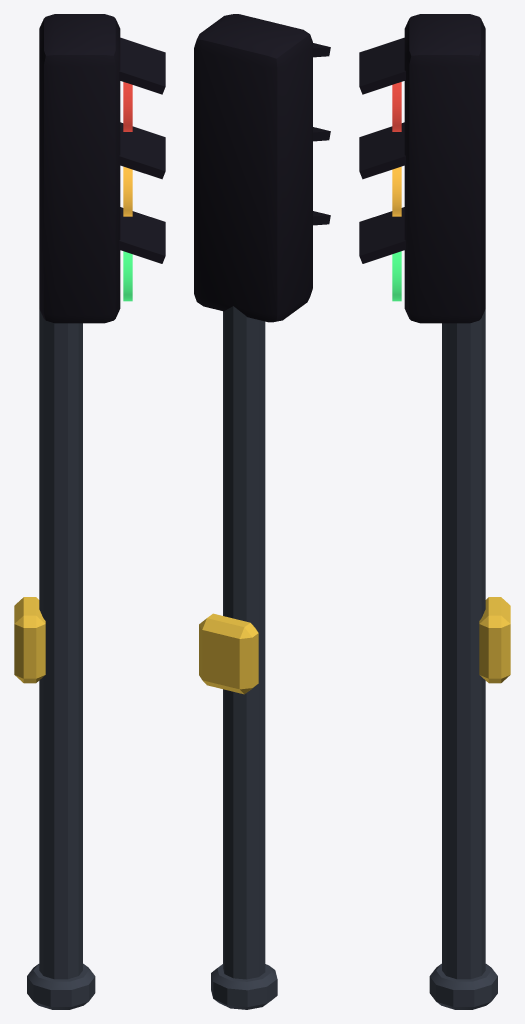
File: traffic_light.glb
3 views of the same model, side by side, from view 1: azimuth 90°, elevation 25°; view 2: azimuth 150°, elevation 25°; view 3: azimuth 270°, elevation 25° (orthographic).
Parts seen in each view (by area): view 1: traffic_light; view 2: traffic_light; view 3: traffic_light.
Part boxes in pixels (x1,y1,x2,y2): traffic_light: [14, 14, 165, 1009]; traffic_light: [194, 14, 330, 1009]; traffic_light: [359, 14, 510, 1009].
Size of the model in its own units: 0.34 by 3.43 by 0.4854.
Materials: 2 (2 with a texture image).
